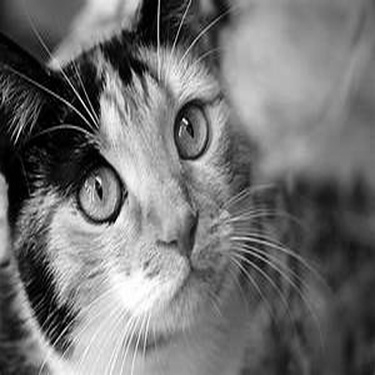cat: (2, 5, 369, 373)
